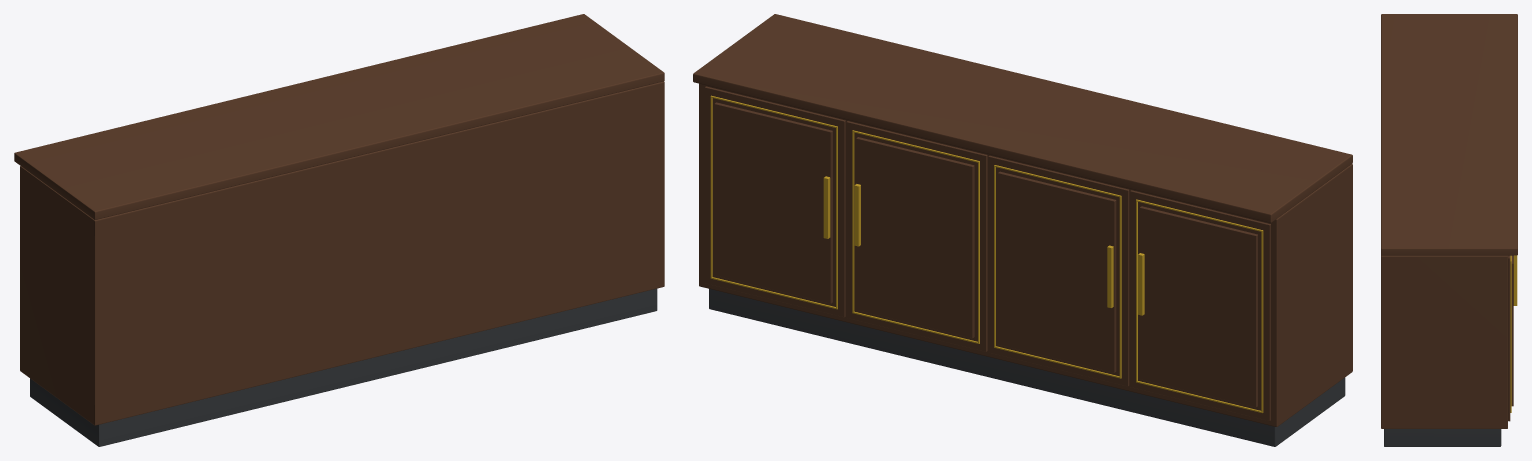
File: prop_credenza_w200.glb
3 views of the same model, side by side, from view 1: azimuth 30°, elevation 25°; view 2: azimuth 150°, elevation 25°; view 3: azimuth 270°, elevation 25° (orthographic). The views are drawn at different scales.
Parts seen in each view (by area): view 1: Cabinet; view 2: Cabinet; view 3: Cabinet.
Boxes of the visible parts, x1=… form: Cabinet: x1=14, y1=14, x2=664, y2=446; Cabinet: x1=693, y1=14, x2=1352, y2=446; Cabinet: x1=1381, y1=14, x2=1517, y2=446.
Size of what is drawn, in the model's own units: 1.99 by 0.795 by 0.49.
